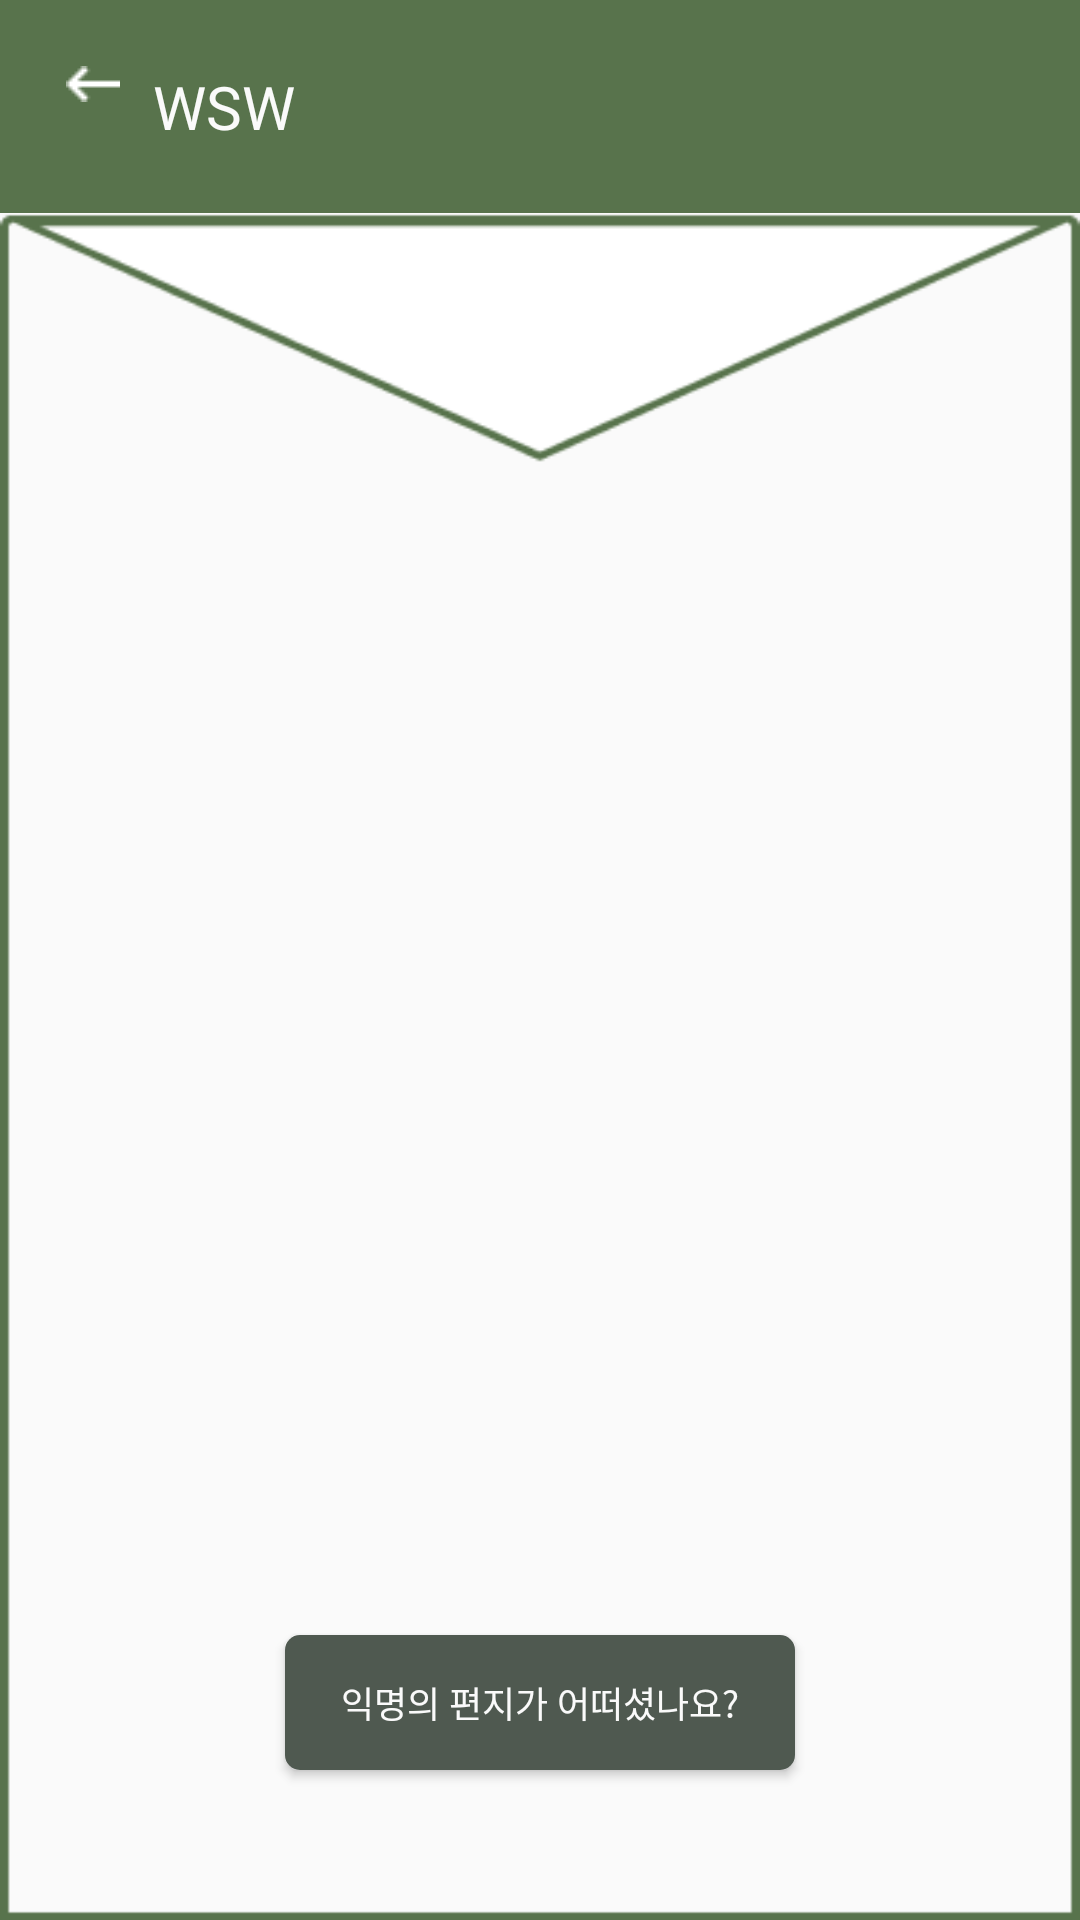

Icons on this 1080x1920 Android screen, each with its box as (x1, y1, x2, y2):
back: (66, 66, 120, 102)
